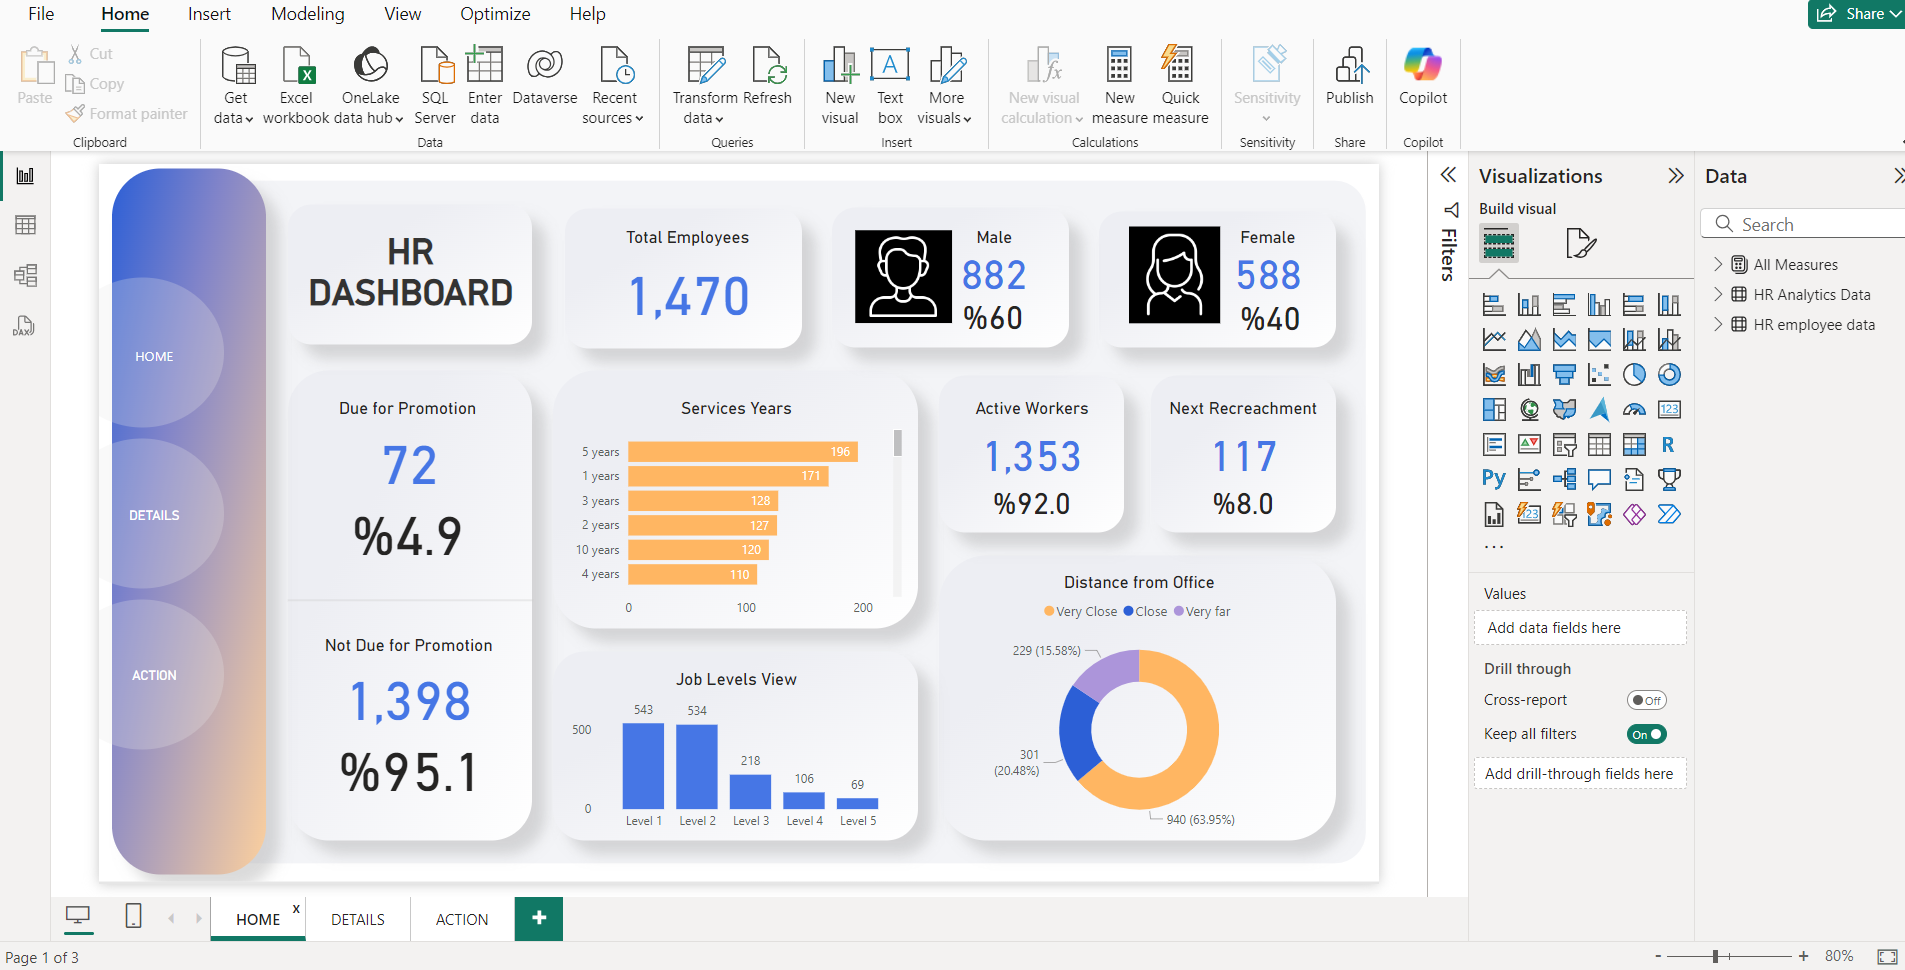

Layout of this report page (visuals, bound fields, positions):
{"tool":"powerbi","page":{"name":"HOME","canvas":[1280,720],"ordinal":0},"visuals":[{"type":"card","title":"Total Employees","fields":{"Values":["All Measures.Total Emp"]},"box":[510.1,62.3,157.2,106.2],"z":0},{"type":"card","title":"Male","fields":{"Values":["All Measures.Male"]},"box":[830.6,62.3,128.2,69.4],"z":1000},{"type":"card","title":"Female","fields":{"Values":["All Measures.Female"]},"box":[1102.8,62.3,132.6,69.4],"z":2000},{"type":"card","fields":{"Values":["All Measures.% Male"]},"box":[855.2,127.3,78.1,48.3],"z":3000},{"type":"card","fields":{"Values":["All Measures.% Female"]},"box":[1132.7,127.3,78.1,49.2],"z":4000},{"type":"card","title":"Not Due for Promotion","fields":{"Values":["All Measures.Not due"]},"box":[218.6,470.6,181.8,99.2],"z":5000},{"type":"card","title":"Due for Promotion","fields":{"Values":["All Measures.Due for Promotion"]},"box":[234.4,233.6,151,101.9],"z":6000},{"type":"card","fields":{"Values":["All Measures.% Due for Promotion"]},"box":[223,322.2,173,85.2],"z":7000},{"type":"card","fields":{"Values":["All Measures.% Not Due"]},"box":[219.5,569.9,183.5,63.2],"z":8000},{"type":"shape","box":[188.8,427.6,245.9,17.6],"z":9000},{"type":"clusteredBarChart","title":"Services Years","fields":{"Y":["All Measures.Total Emp"],"Category":["HR Analytics Data.ServiceYear"]},"box":[468,233.6,339.8,228.3],"z":10000},{"type":"columnChart","title":"Job Levels View","fields":{"Y":["All Measures.Total Emp"],"Category":["HR Analytics Data.Job Levels"]},"box":[468,504.9,339.8,170.3],"z":11000},{"type":"card","title":"Active Workers","fields":{"Values":["All Measures.On Service"]},"box":[852.6,233.6,160.7,88.7],"z":12000},{"type":"card","fields":{"Values":["All Measures.% On Service"]},"box":[864,310,138.7,55.3],"z":13000},{"type":"donutChart","title":"Distance from Office","fields":{"Category":["HR Analytics Data.Distance Status"],"Y":["All Measures.Total Emp"]},"box":[844.7,407.4,390.7,267.8],"z":14000},{"type":"card","title":"Next Recreachment","fields":{"Values":["All Measures.Due for retrenchment"]},"box":[1060.7,233.6,166,88.7],"z":15000},{"type":"card","fields":{"Values":["All Measures.% Due for retirment"]},"box":[1089.7,313.5,108.9,47.4],"z":16000},{"type":"textbox","title":"HR DASHBOARD","box":[197.6,65.9,228.3,109.8],"z":17000},{"type":"image","box":[1030,62.3,91.3,96.6],"z":18000},{"type":"image","box":[756,65.9,96.6,93.1],"z":19000},{"type":"pageNavigator","box":[6.1,116.8,98.3,470.6],"z":22001}]}

Visuals, with their boxes on the page's 1280x720 design canvas (x1, y1, x2, y2). These are canvas units, not pixel positions in the 1905x970 screenshot, which may show the page scaled, cropped or inside an application window:
"Total Employees" card: [x1=510, y1=62, x2=667, y2=168]
"Male" card: [x1=831, y1=62, x2=959, y2=132]
"Female" card: [x1=1103, y1=62, x2=1235, y2=132]
card - All Measures.% Male: [x1=855, y1=127, x2=933, y2=176]
card - All Measures.% Female: [x1=1133, y1=127, x2=1211, y2=176]
"Not Due for Promotion" card: [x1=219, y1=471, x2=400, y2=570]
"Due for Promotion" card: [x1=234, y1=234, x2=385, y2=336]
card - All Measures.% Due for Promotion: [x1=223, y1=322, x2=396, y2=407]
card - All Measures.% Not Due: [x1=220, y1=570, x2=403, y2=633]
shape: [x1=189, y1=428, x2=435, y2=445]
"Services Years" clusteredBarChart: [x1=468, y1=234, x2=808, y2=462]
"Job Levels View" columnChart: [x1=468, y1=505, x2=808, y2=675]
"Active Workers" card: [x1=853, y1=234, x2=1013, y2=322]
card - All Measures.% On Service: [x1=864, y1=310, x2=1003, y2=365]
"Distance from Office" donutChart: [x1=845, y1=407, x2=1235, y2=675]
"Next Recreachment" card: [x1=1061, y1=234, x2=1227, y2=322]
card - All Measures.% Due for retirment: [x1=1090, y1=314, x2=1199, y2=361]
"HR DASHBOARD" textbox: [x1=198, y1=66, x2=426, y2=176]
image: [x1=1030, y1=62, x2=1121, y2=159]
image: [x1=756, y1=66, x2=853, y2=159]
pageNavigator: [x1=6, y1=117, x2=104, y2=587]
